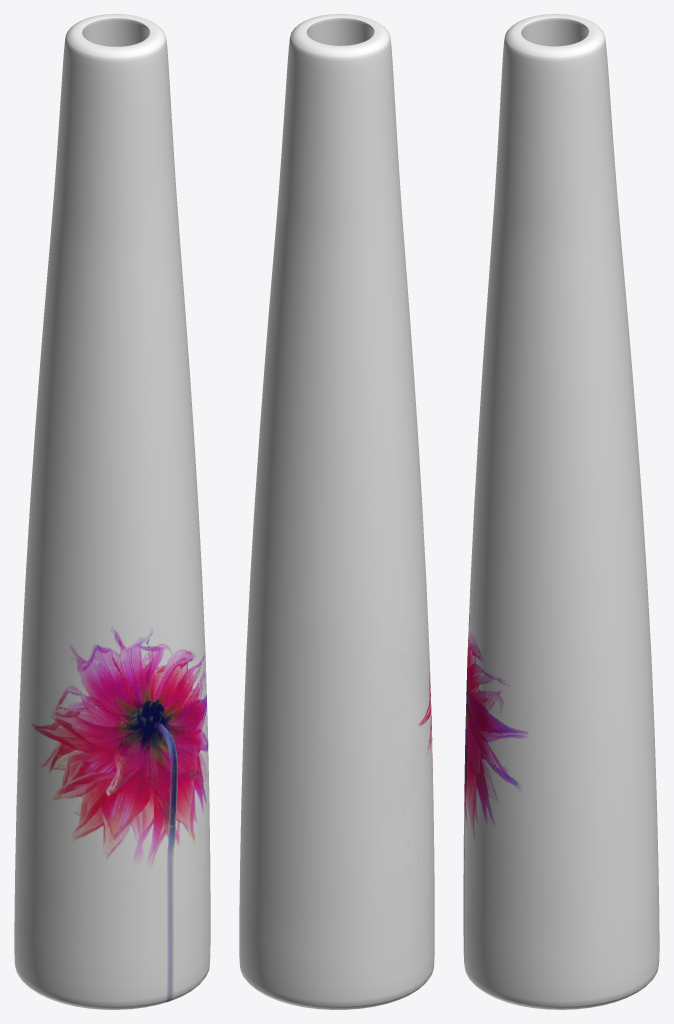
The model's file is JEMINA vase -up.fbx.
3 renders of one model, left to right at view 1: azimuth 30°, elevation 25°; view 2: azimuth 150°, elevation 25°; view 3: azimuth 270°, elevation 25°, orthographic.
Parts seen in each view (by area): view 1: JEMINA vase; view 2: JEMINA vase; view 3: JEMINA vase.
Boxes of the visible parts, left/top/right/bottom form: JEMINA vase: left=14, top=14, right=210, bottom=1009; JEMINA vase: left=239, top=14, right=434, bottom=1009; JEMINA vase: left=463, top=14, right=659, bottom=1009.
Bounding box in the file's own units: 2.34 × 12.4 × 2.34.
